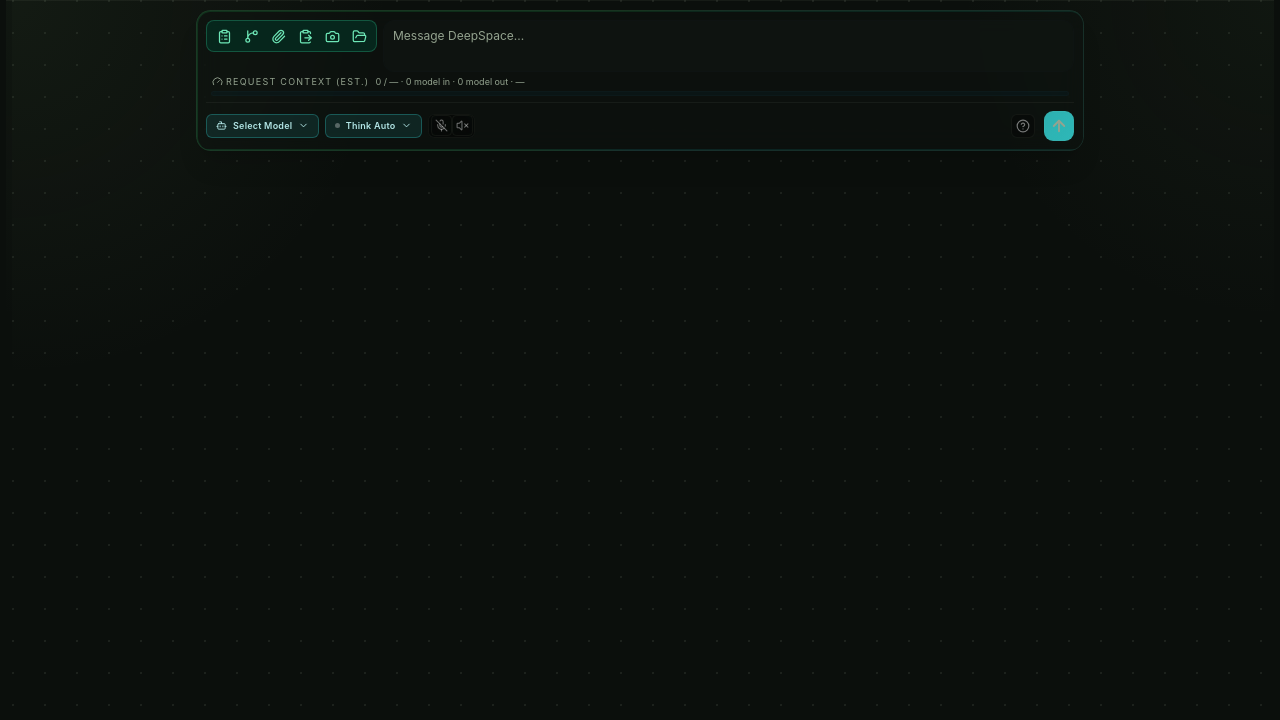
Test: DeepSpaceComposer file extraction status › keeps saved extraction status when attaching an existing Library file
Click the button named "Attach an existing Library file" at (359, 36), box [347,24,371,48]
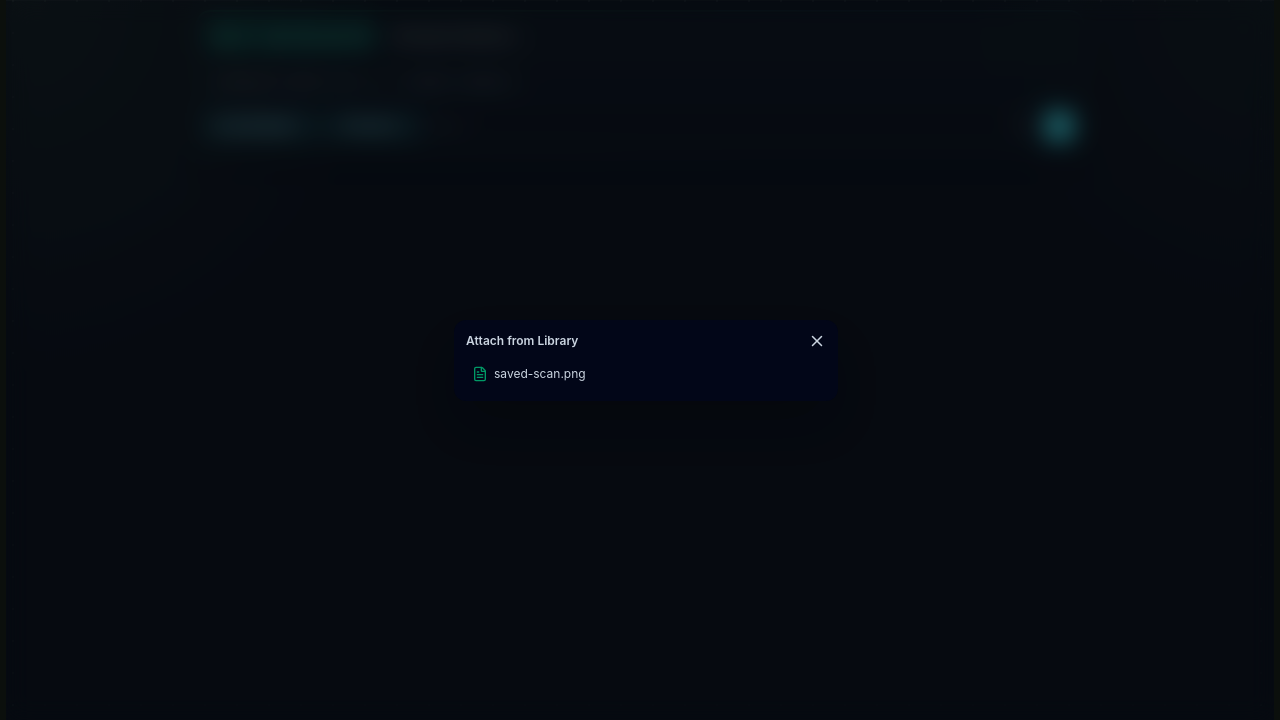
Click the button "saved-scan.png" at (540, 373), box [466,358,826,388]
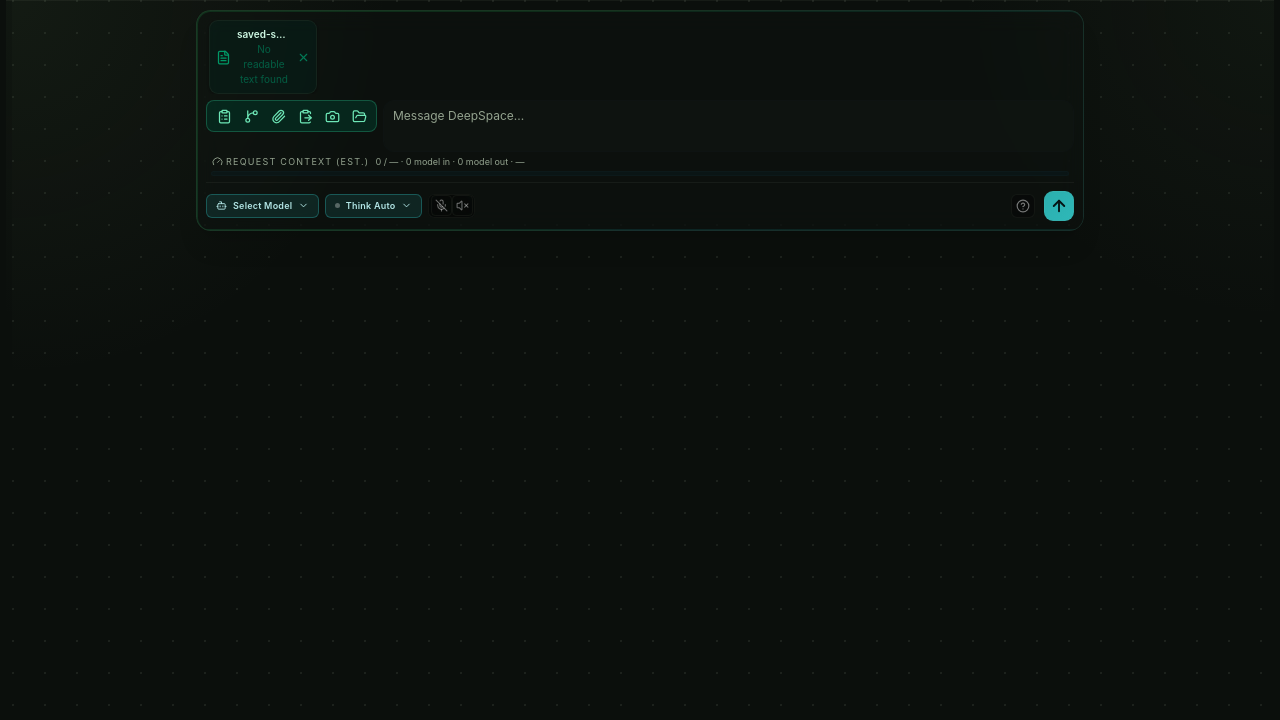
Check: the text "No readable text found" is shown, box [237,42,291,87]
